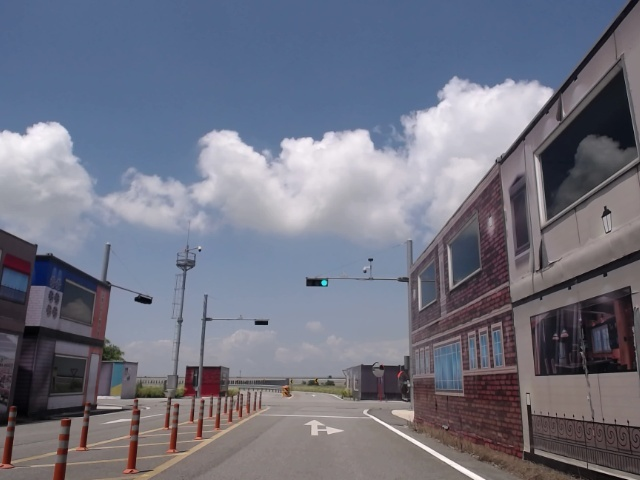green_3: (308, 278, 328, 287)
